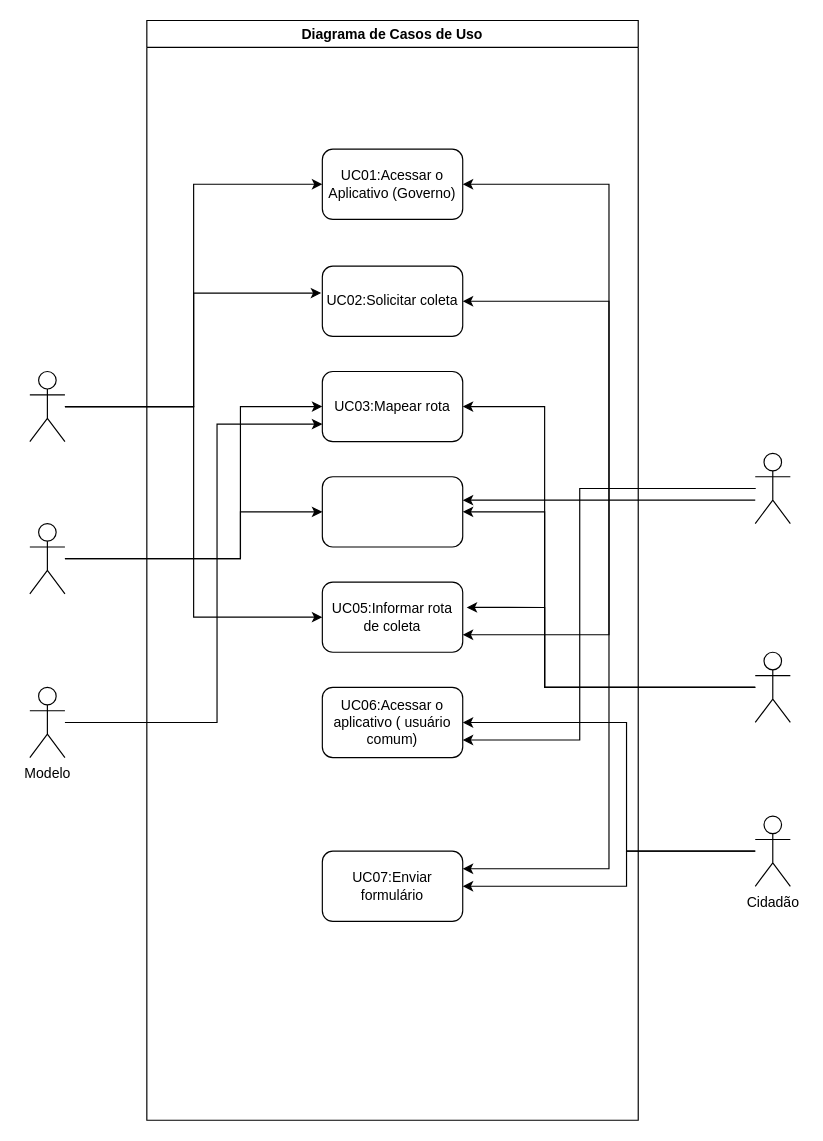
Some shapes in this 823 by 1141 pixel diagram are drawn without their labels. The shapes that lost their labels are listed below. From the top down, each one's centre as x and y in pixels, then its label:
At (x=47, y=406): "Governo".
At (x=772, y=488): "Aplicativo".
At (x=392, y=511): "UC04:Realizar coleta".
At (x=47, y=558): "Coletor".
At (x=772, y=686): "Waze".
